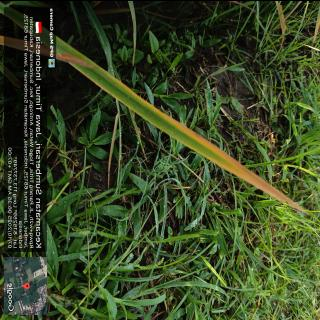Hawar-Daun: (151, 106, 309, 213)
